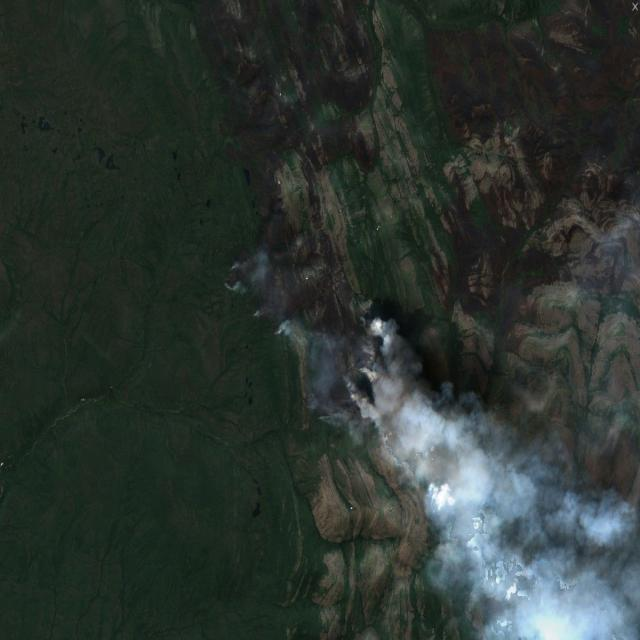fire: (222, 253, 392, 429)
